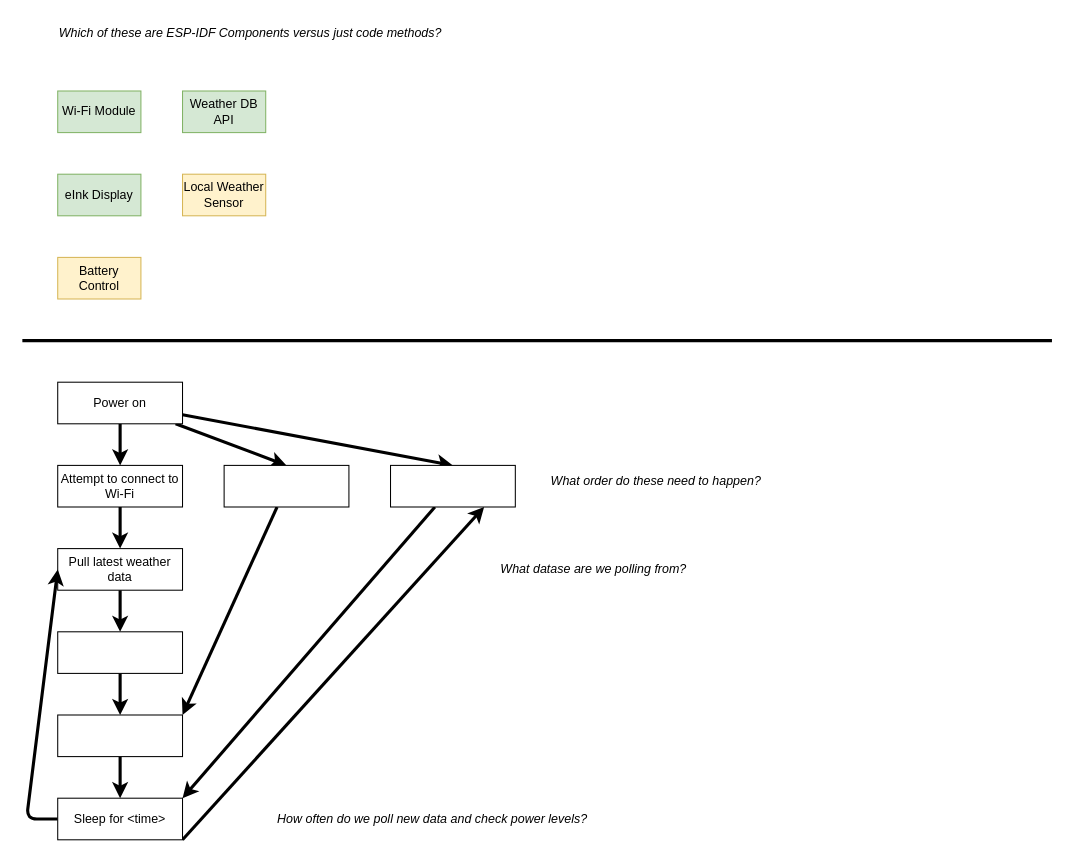
This 1072x867 diagram has some shape labels left out. Each missing label, with the box of its shape:
Check power levels: (389, 464, 515, 507)
Initialize display: (223, 464, 349, 507)
Process data for display: (57, 631, 183, 673)
Write to display: (57, 714, 183, 757)
